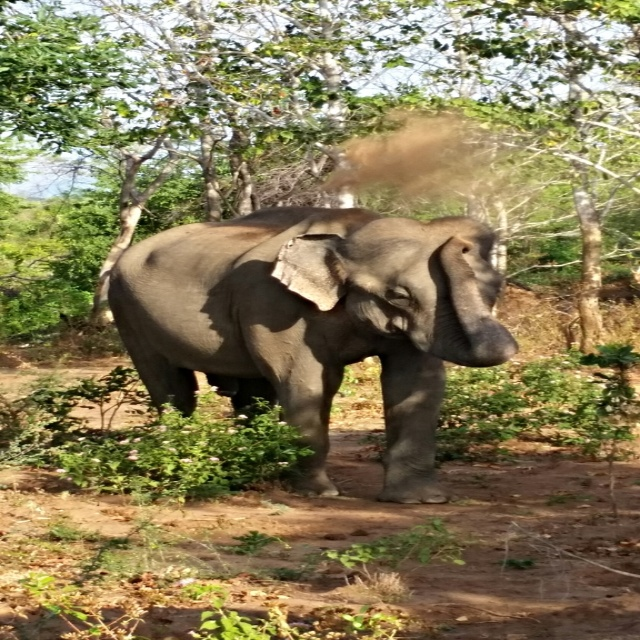Elephant: (107, 205, 519, 504)
